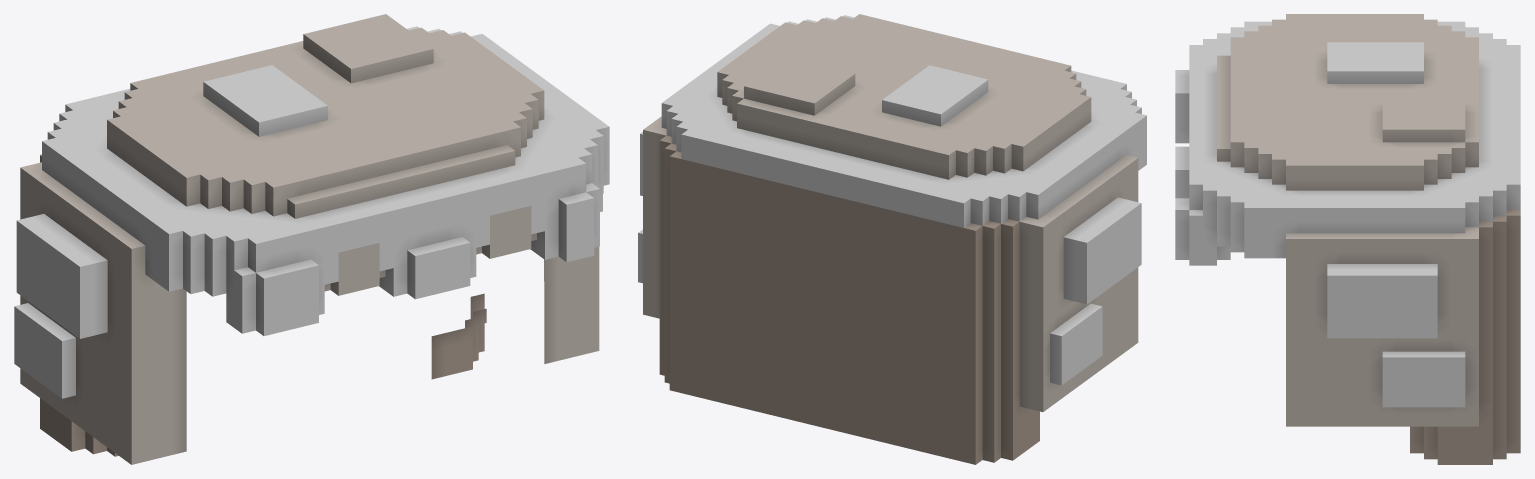
File: hair_f_wild.glb
3 views of the same model, side by side, from view 1: azimuth 30°, elevation 25°; view 2: azimuth 150°, elevation 25°; view 3: azimuth 270°, elevation 25° (orthographic). The views are drawn at different scales.
Visible parts, largest first — view 1: VoxelVisual; view 2: VoxelVisual; view 3: VoxelVisual.
Boxes of the visible parts, left/top/right/bottom form: VoxelVisual: left=14, top=14, right=609, bottom=464; VoxelVisual: left=638, top=14, right=1146, bottom=464; VoxelVisual: left=1175, top=14, right=1520, bottom=464.
Size of what is drawn, in the model's own units: 2.38 by 1.5 by 1.56.
